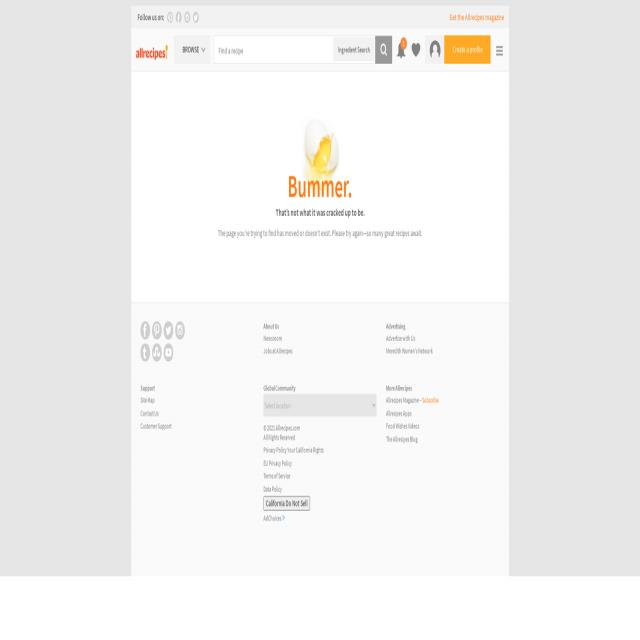button: (426, 35, 491, 63), (174, 35, 210, 63), (264, 496, 310, 511), (136, 44, 168, 60), (375, 36, 392, 63), (394, 35, 408, 63), (409, 35, 423, 62), (493, 37, 507, 64), (152, 321, 162, 340), (175, 321, 185, 340), (152, 343, 162, 362), (140, 344, 150, 362), (164, 321, 173, 340), (141, 322, 150, 341), (164, 343, 173, 362), (175, 12, 182, 24), (193, 11, 199, 23), (167, 12, 173, 24), (184, 12, 190, 24)
field: (214, 36, 375, 63), (263, 394, 377, 417)
